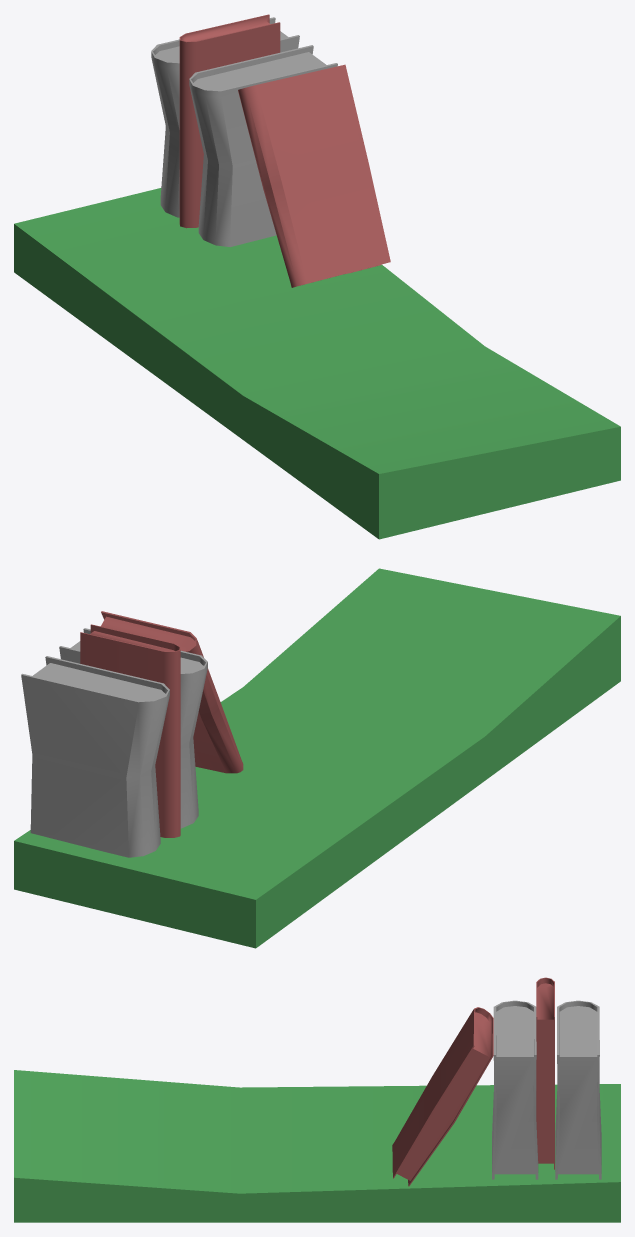
The model's file is Balda 1.fbx.
3 renders of one model, top to bottom at view 1: azimuth 30°, elevation 25°; view 2: azimuth 150°, elevation 25°; view 3: azimuth 270°, elevation 25°, orthographic. The views are drawn at different scales.
Parts seen in each view (by area): view 1: polySurface19; view 2: polySurface19; view 3: polySurface19.
Boxes of the visible parts, x1,y1,x2,y2 form: polySurface19: (14,14,620,539); polySurface19: (14,568,620,948); polySurface19: (14,977,620,1222).
Size of the model in its own units: 53.19 by 48.36 by 136.
